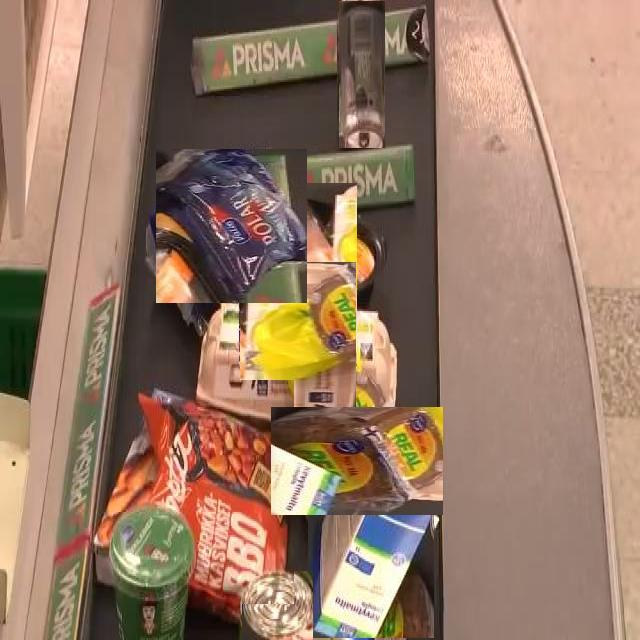beverage: (307, 491, 434, 638), (338, 0, 385, 148)
food-box: (130, 380, 294, 604), (219, 282, 377, 440), (222, 199, 374, 349), (287, 391, 427, 532), (114, 512, 195, 640), (241, 570, 313, 640)
utility-box: (154, 150, 308, 302)
